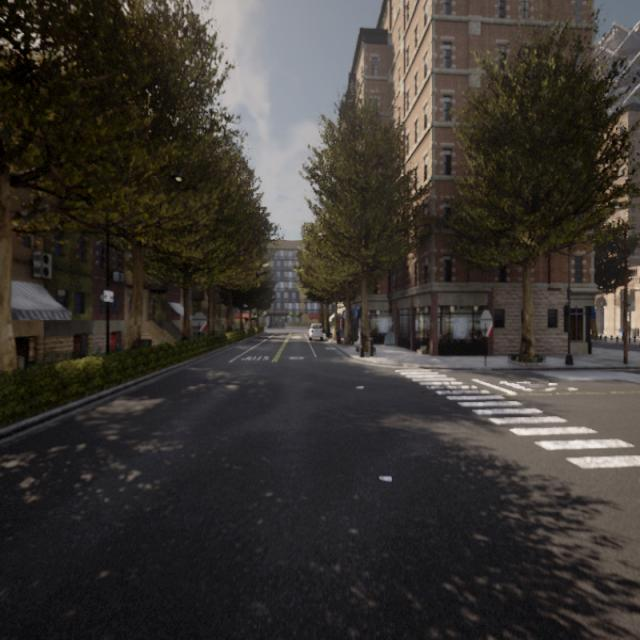stop sign: (477, 305, 495, 367)
